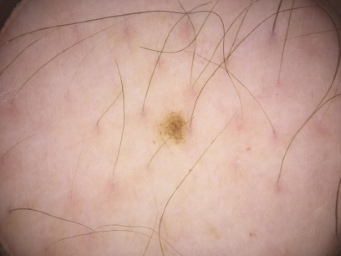melanoma: (159, 112, 187, 143)
